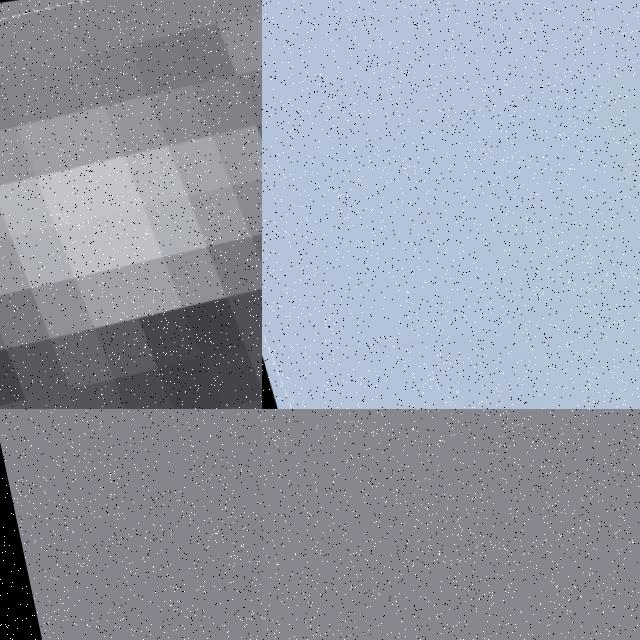drone: (262, 0, 640, 409), (0, 0, 262, 409)
